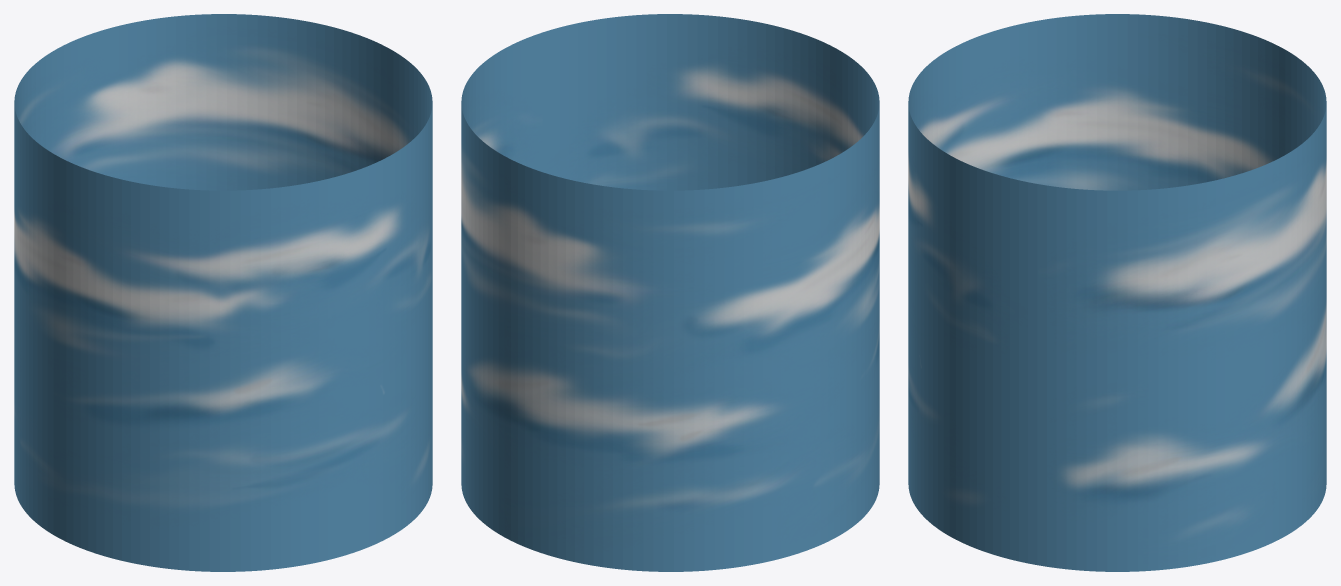
File: sky.fbx
3 renders of one model, left to right at view 1: azimuth 30°, elevation 25°; view 2: azimuth 150°, elevation 25°; view 3: azimuth 270°, elevation 25°, orthographic.
Parts seen in each view (by area): view 1: Cylinder; view 2: Cylinder; view 3: Cylinder.
Boxes of the visible parts, left/top/right/bottom form: Cylinder: left=14, top=14, right=432, bottom=571; Cylinder: left=461, top=14, right=879, bottom=571; Cylinder: left=908, top=14, right=1326, bottom=571.
Size of the model in its own units: 3469 by 3490 by 3469.
1 material, 1 textured.
